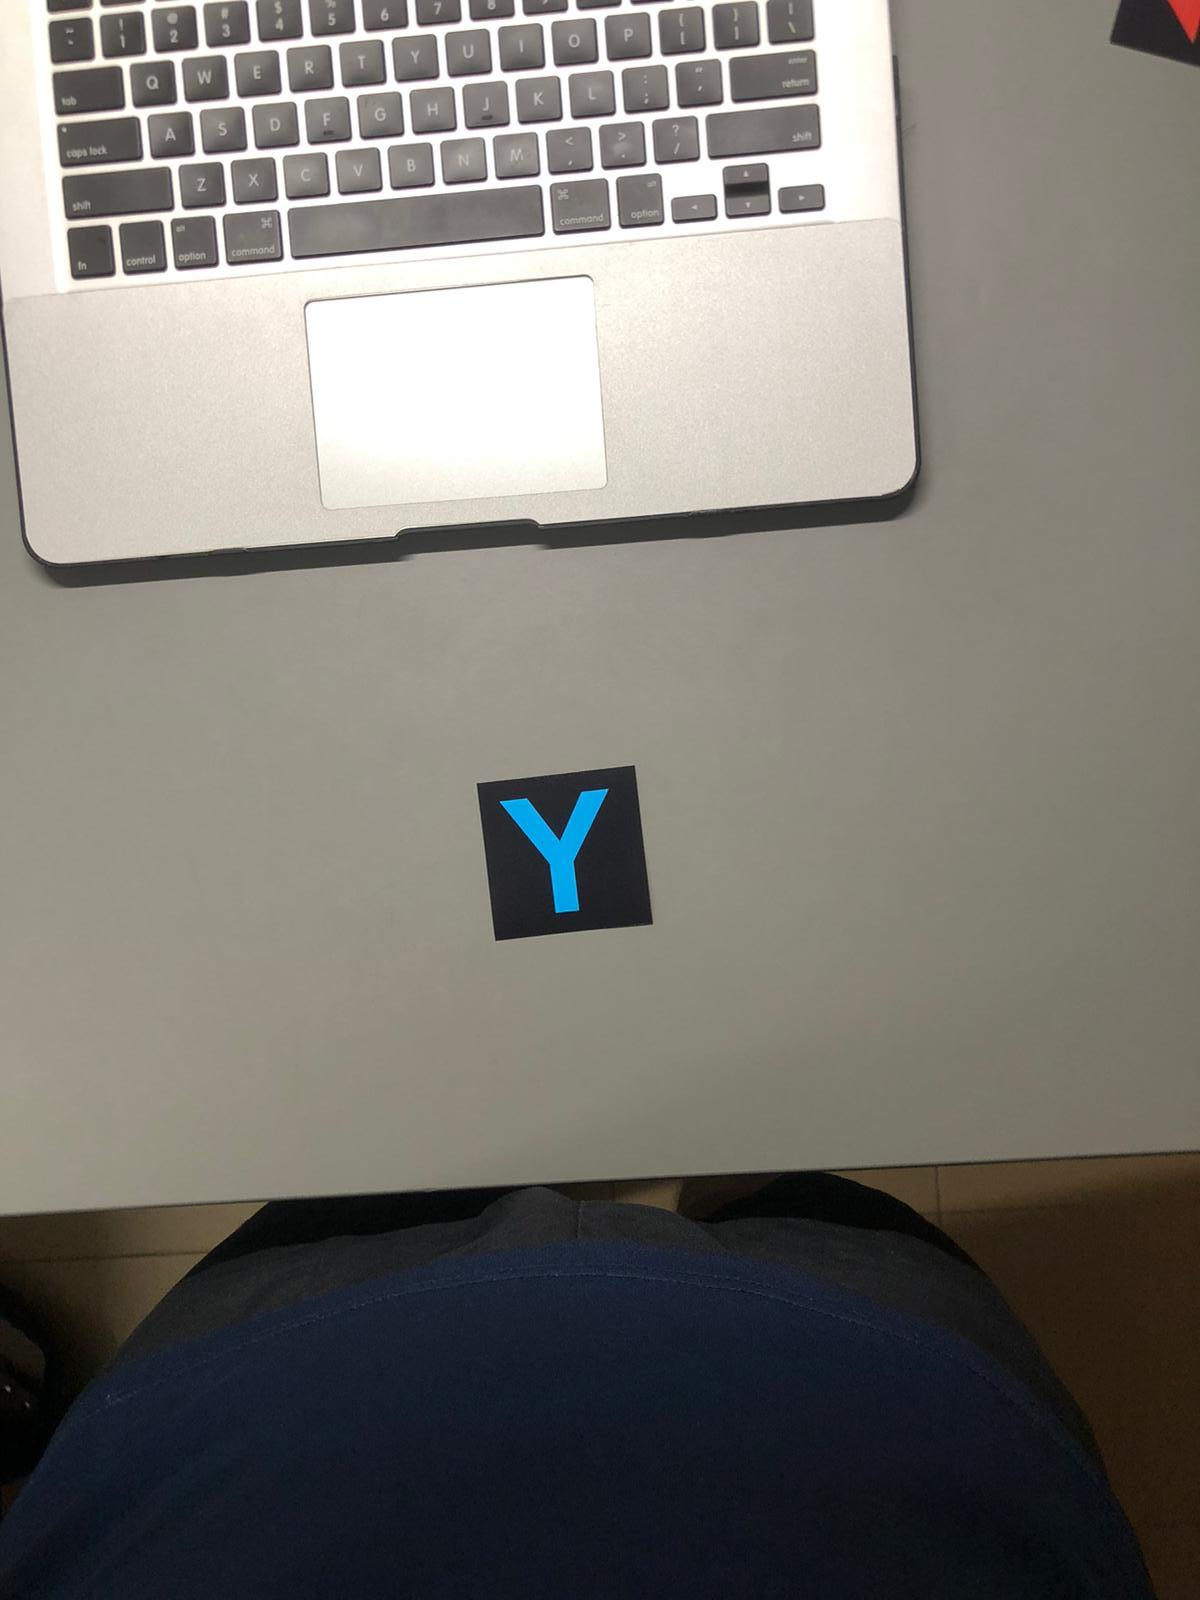Y: (484, 781, 645, 940)
